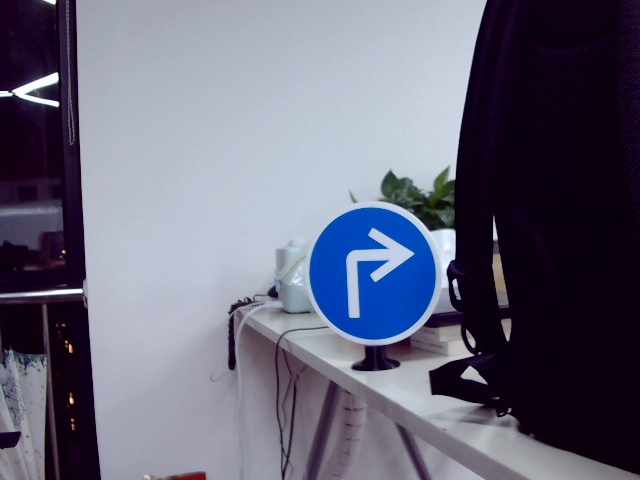turn_right: (339, 233, 415, 318)
